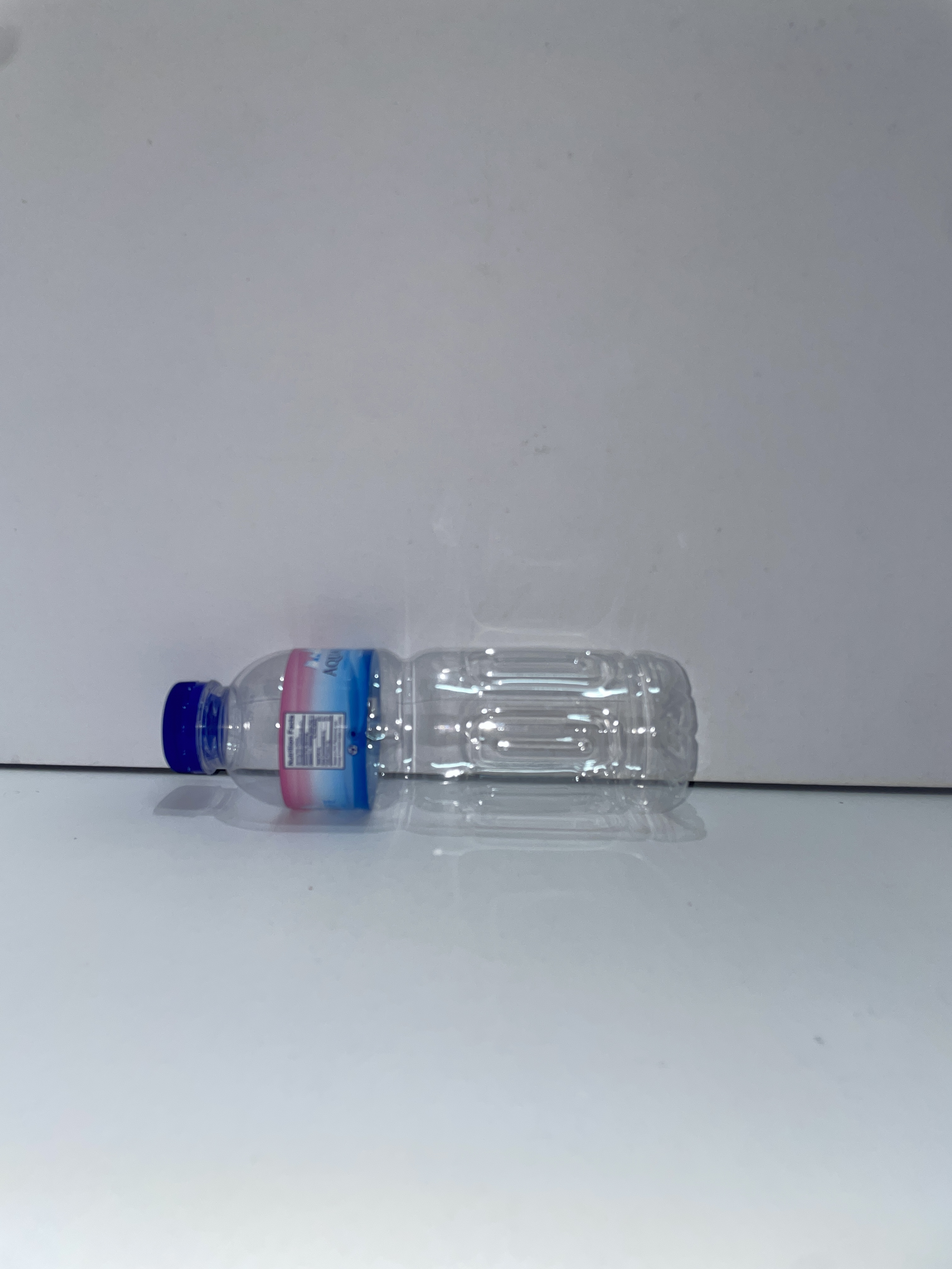Aqua Life 350ml: (162, 648, 697, 831)
